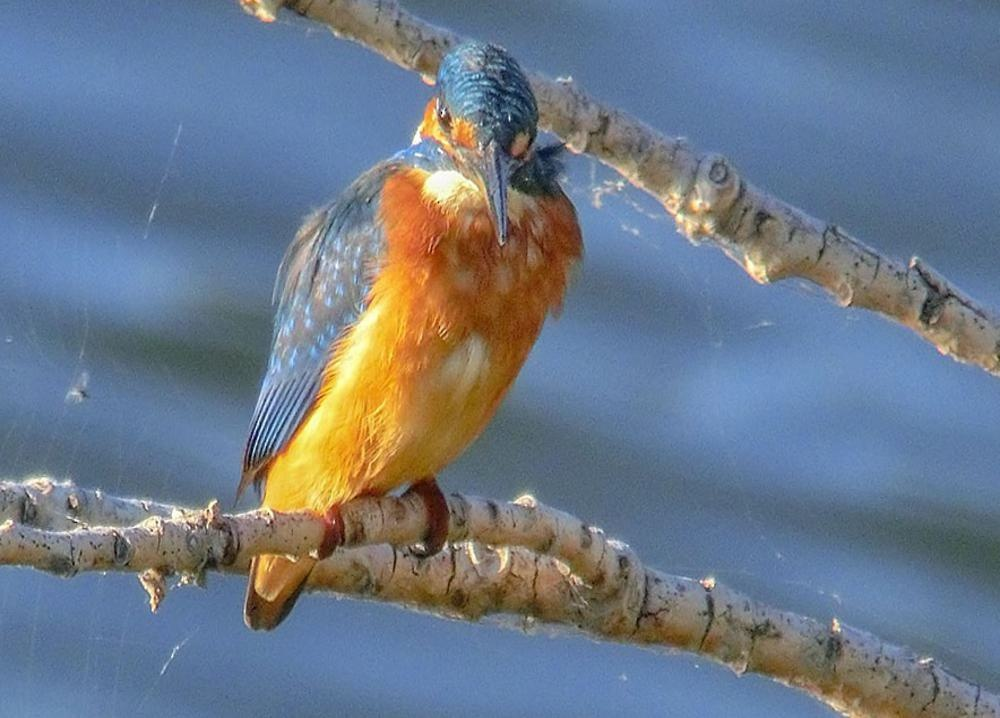kingfisher: (218, 51, 572, 611)
